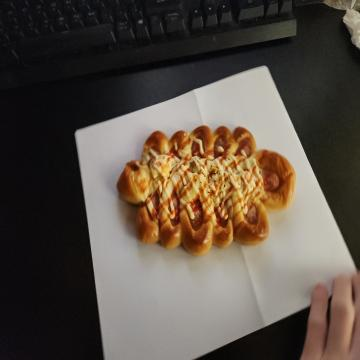pizza_bread: (116, 124, 296, 254)
